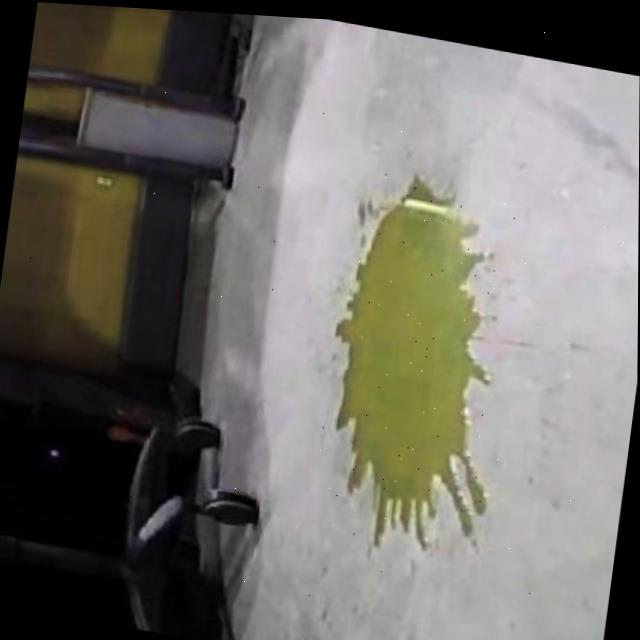spillage: (336, 171, 490, 538)
